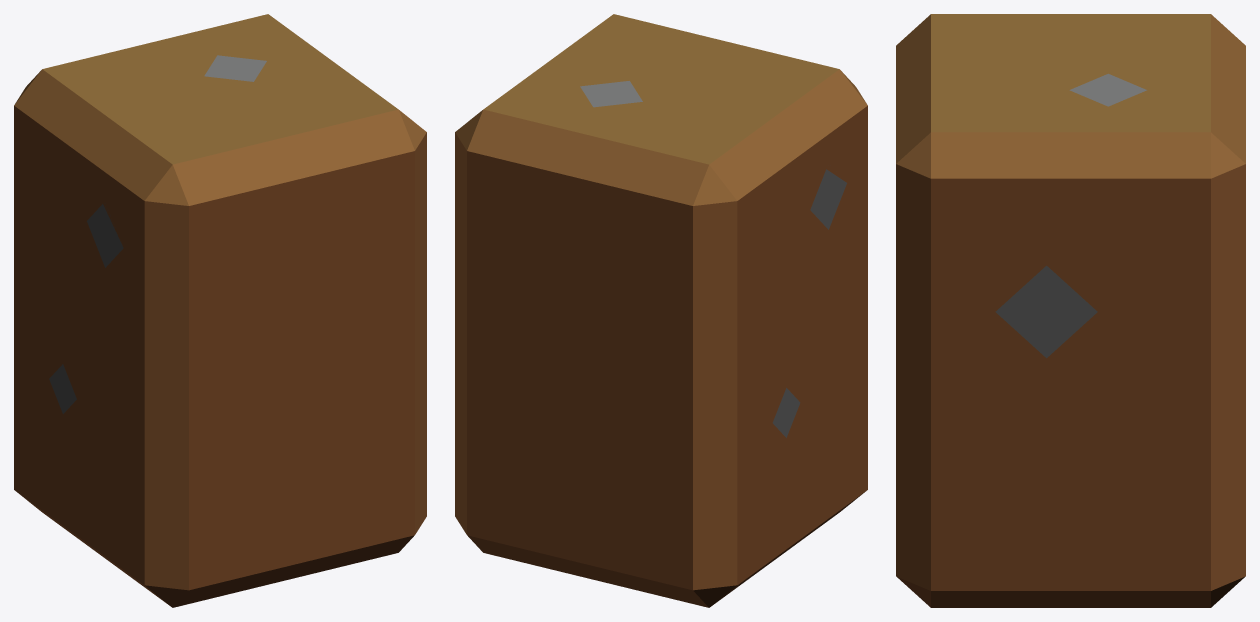
Rendered from m_kub_dirt_vrickMid.FBX.
3 views of the same model, side by side, from view 1: azimuth 30°, elevation 25°; view 2: azimuth 150°, elevation 25°; view 3: azimuth 270°, elevation 25° (orthographic). The views are drawn at different scales.
Visible parts, largest first — view 1: m_kub_dirt_vrickMid; view 2: m_kub_dirt_vrickMid; view 3: m_kub_dirt_vrickMid.
Part boxes in pixels (<box>): m_kub_dirt_vrickMid: <box>14,14,426,607</box>; m_kub_dirt_vrickMid: <box>455,14,867,607</box>; m_kub_dirt_vrickMid: <box>896,14,1245,607</box>.
Size of the model in its own units: 1 by 1.5 by 1.
